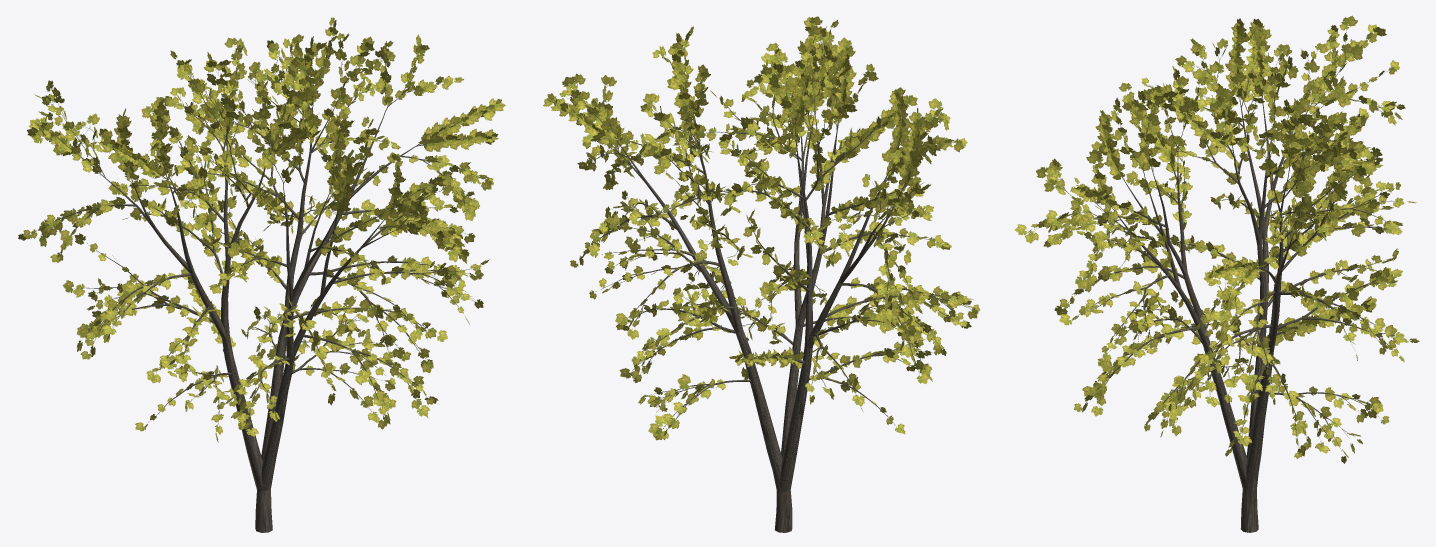
File: Amazonie_Arbre_22.fbx
The picture shows the model from 3 angles, left to right: view 1: azimuth 30°, elevation 25°; view 2: azimuth 150°, elevation 25°; view 3: azimuth 270°, elevation 25°; orthographic projection.
Parts seen in each view (by area): view 1: Plane.001, tree; view 2: Plane.001, tree; view 3: Plane.001, tree.
Part boxes in pixels (x1,y1,x2,y2): Plane.001: [18, 17, 505, 442]; tree: [31, 33, 487, 532]; Plane.001: [543, 16, 979, 440]; tree: [577, 31, 967, 532]; Plane.001: [1015, 15, 1419, 463]; tree: [1034, 32, 1396, 532].
Bounding box in the file's own units: 1601 × 1705 × 1328.
